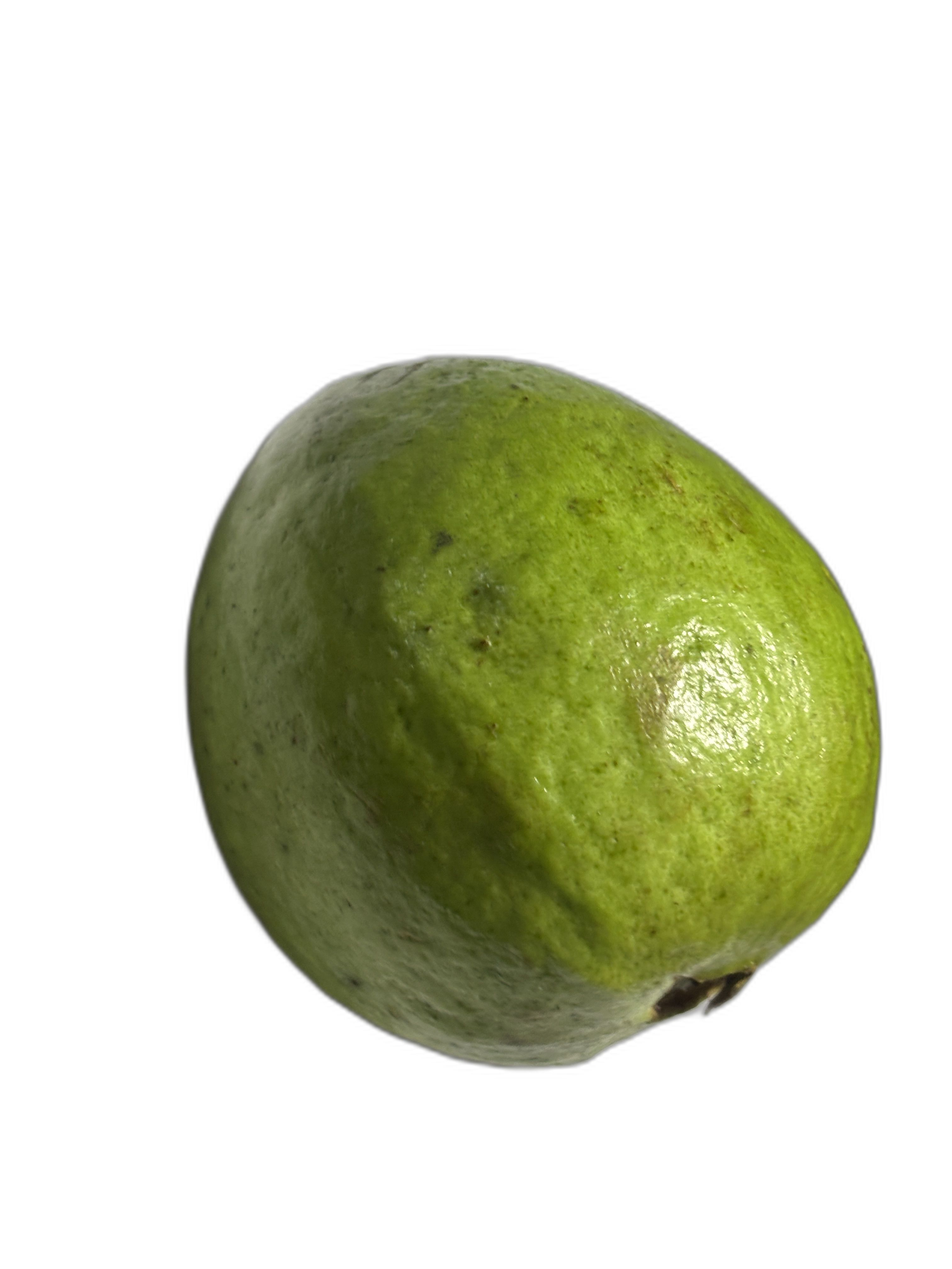guava: (130, 233, 731, 1113)
